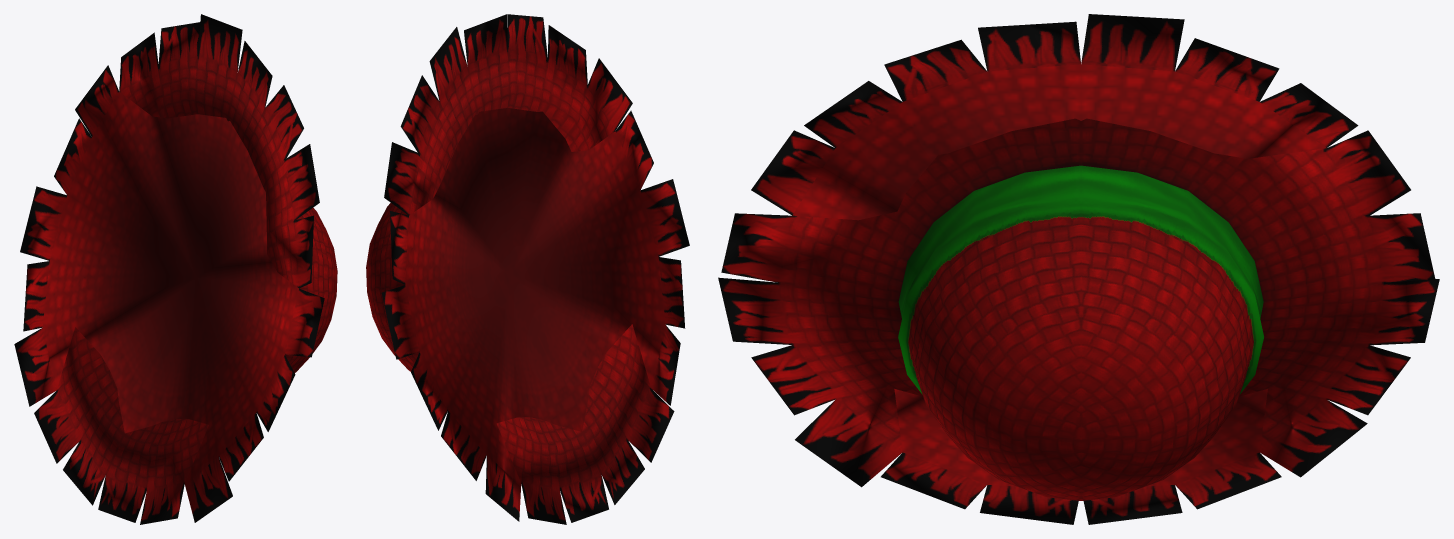
3 renders of one model, left to right at view 1: azimuth 30°, elevation 25°; view 2: azimuth 150°, elevation 25°; view 3: azimuth 270°, elevation 25°, orthographic. The views are drawn at different scales.
Visible parts, largest first — view 1: B1146; view 2: B1146; view 3: B1146.
Boxes of the visible parts, <box> form: B1146: <box>14,14,337,524</box>; B1146: <box>366,14,689,524</box>; B1146: <box>718,14,1439,524</box>.
Bounding box in the file's own units: 0.5004 × 0.9436 × 1.01.
